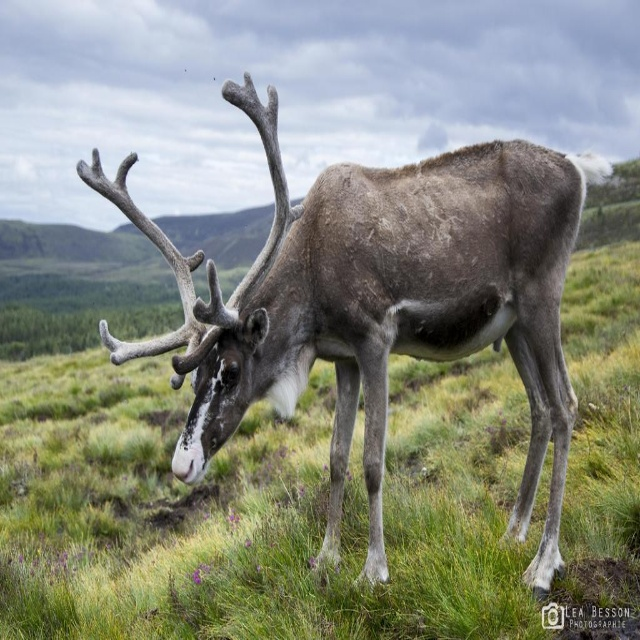Deer: (76, 74, 614, 597)
